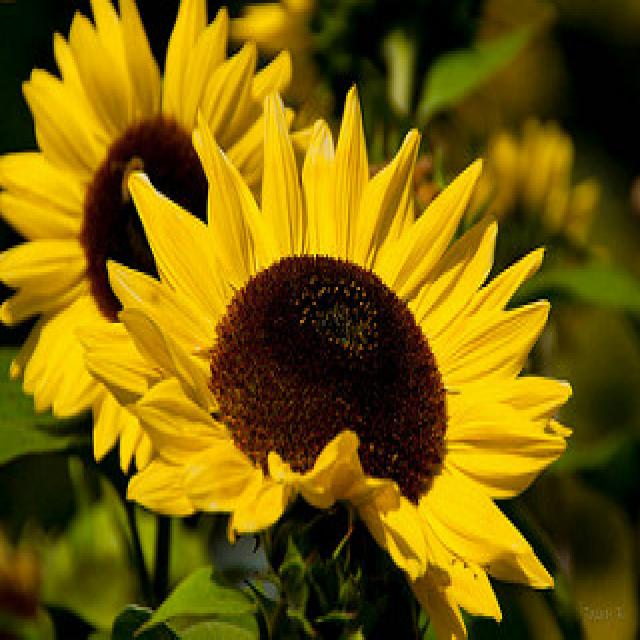sunflower: (90, 83, 568, 640), (0, 0, 302, 428)
